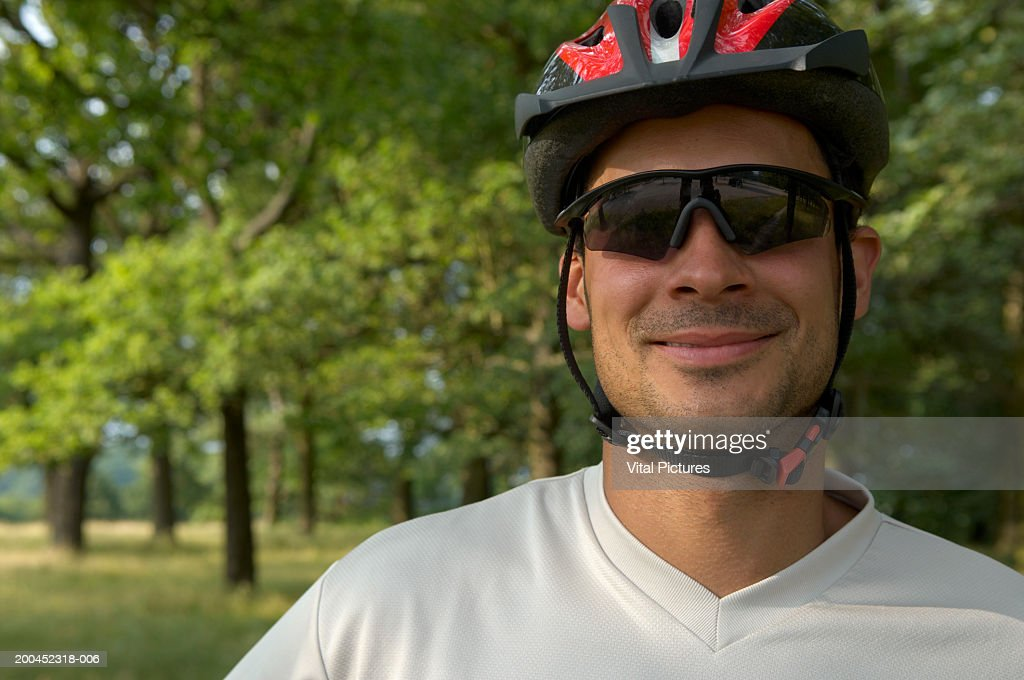helmet: (514, 1, 891, 451)
